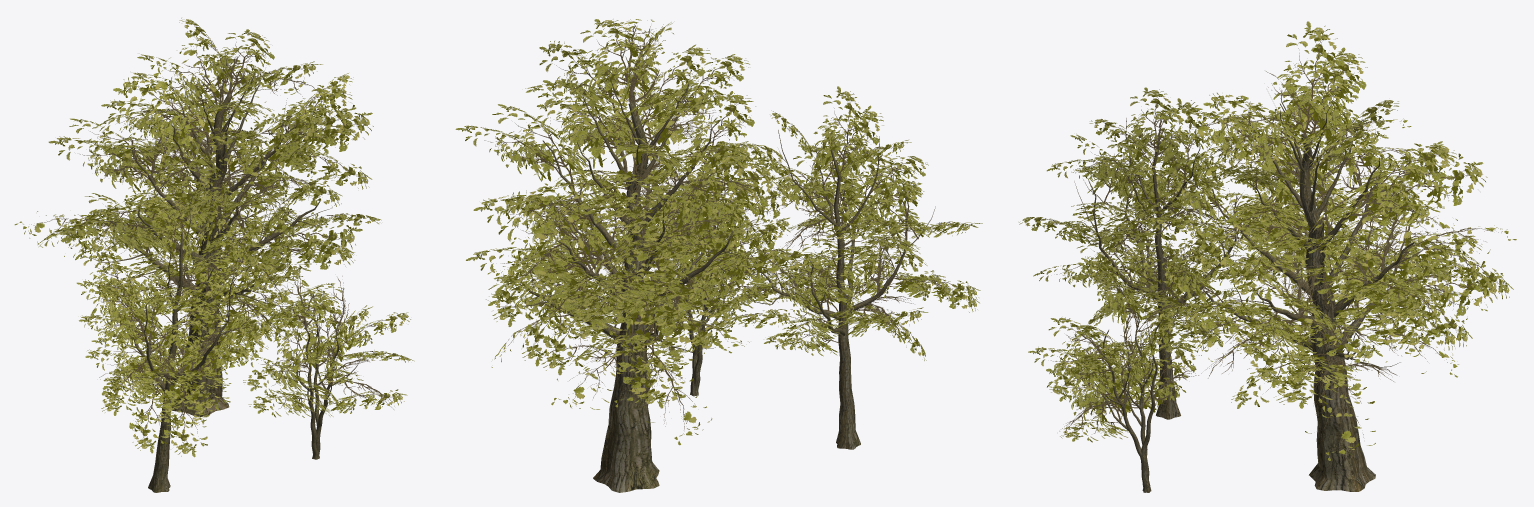
File: oak_trees.obj
The picture shows the model from 3 angles, left to right: view 1: azimuth 30°, elevation 25°; view 2: azimuth 150°, elevation 25°; view 3: azimuth 270°, elevation 25°; orthographic projection. The views are drawn at different scales.
Parts seen in each view (by area): view 1: treelarge_bark1_0, Treemedium_bark1_0, leafplanes_4_23_leaf1_0, leafplanes_4_7_leaf1_0, leafplanes_4_39_leaf1_0, leafplanes_10_3_leaf1_0, Treesmall_bark1_0, leafplanes_4_13_2_leaf1_0, leafplanes_4_13_3_40_2_leaf1_0, leafplanes_3_leaf1_0, leafplanes_4_13_3_67_leaf1_0, leafplanes_5_leaf1_0 (+76 smaller); view 2: treelarge_bark1_0, Treemedium_bark1_0, leafplanes_10_195_leaf1_0, leafplanes_10_177_leaf1_0, leafplanes_4_13_leaf1_0, leafplanes_4_38_leaf1_0, leafplanes_10_108_leaf1_0, leafplanes_10_9_leaf1_0, leafplanes_10_117_leaf1_0, leafplanes_4_6_leaf1_0, leafplanes_4_58_leaf1_0, leafplanes_4_55_leaf1_0 (+74 smaller); view 3: treelarge_bark1_0, Treemedium_bark1_0, leafplanes_4_13_3_leaf1_0, Treesmall_bark1_0, leafplanes_4_60_leaf1_0, leafplanes_4_13_1_leaf1_0, leafplanes_4_52_leaf1_0, leafplanes_10_93_1_leaf1_0, leafplanes_10_78_leaf1_0, leafplanes_4_37_leaf1_0, leafplanes_10_114_leaf1_0, leafplanes_4_41_leaf1_0 (+79 smaller).
Part boxes in pixels (box(x1,y1,x2,y2)): treelarge_bark1_0: box(82, 53, 338, 416); Treemedium_bark1_0: box(123, 189, 255, 492); leafplanes_4_23_leaf1_0: box(113, 77, 214, 156); leafplanes_4_7_leaf1_0: box(260, 212, 362, 266); leafplanes_4_39_leaf1_0: box(222, 102, 326, 168); leafplanes_10_3_leaf1_0: box(152, 150, 221, 217); Treesmall_bark1_0: box(288, 292, 374, 459); leafplanes_4_13_2_leaf1_0: box(209, 29, 274, 93); leafplanes_4_13_3_40_2_leaf1_0: box(156, 384, 212, 457); leafplanes_3_leaf1_0: box(66, 195, 169, 249); leafplanes_4_13_3_67_leaf1_0: box(128, 377, 181, 453); leafplanes_5_leaf1_0: box(54, 211, 155, 252); treelarge_bark1_0: box(486, 56, 760, 492); Treemedium_bark1_0: box(740, 130, 935, 449); leafplanes_10_195_leaf1_0: box(616, 325, 692, 408); leafplanes_10_177_leaf1_0: box(492, 243, 579, 326); leafplanes_4_13_leaf1_0: box(580, 19, 661, 99); leafplanes_4_38_leaf1_0: box(631, 271, 731, 353); leafplanes_10_108_leaf1_0: box(598, 165, 675, 236); leafplanes_10_9_leaf1_0: box(662, 148, 750, 232); leafplanes_10_117_leaf1_0: box(522, 277, 607, 366); leafplanes_4_6_leaf1_0: box(494, 190, 611, 287); leafplanes_4_58_leaf1_0: box(492, 104, 587, 189); leafplanes_4_55_leaf1_0: box(538, 78, 635, 171); treelarge_bark1_0: box(1174, 87, 1435, 491); Treemedium_bark1_0: box(1074, 118, 1241, 419); leafplanes_4_13_3_leaf1_0: box(1273, 21, 1348, 134); Treesmall_bark1_0: box(1087, 311, 1162, 492); leafplanes_4_60_leaf1_0: box(1343, 144, 1454, 211); leafplanes_4_13_1_leaf1_0: box(1288, 47, 1367, 139); leafplanes_4_52_leaf1_0: box(1365, 153, 1487, 224); leafplanes_10_93_1_leaf1_0: box(1203, 92, 1304, 165); leafplanes_10_78_leaf1_0: box(1231, 232, 1310, 300); leafplanes_4_37_leaf1_0: box(1274, 355, 1361, 408); leafplanes_10_114_leaf1_0: box(1195, 207, 1280, 277); leafplanes_4_41_leaf1_0: box(1389, 261, 1501, 326).
Size of the model in its own units: 1.97 by 2.04 by 2.08.
2 materials, 2 textured.
